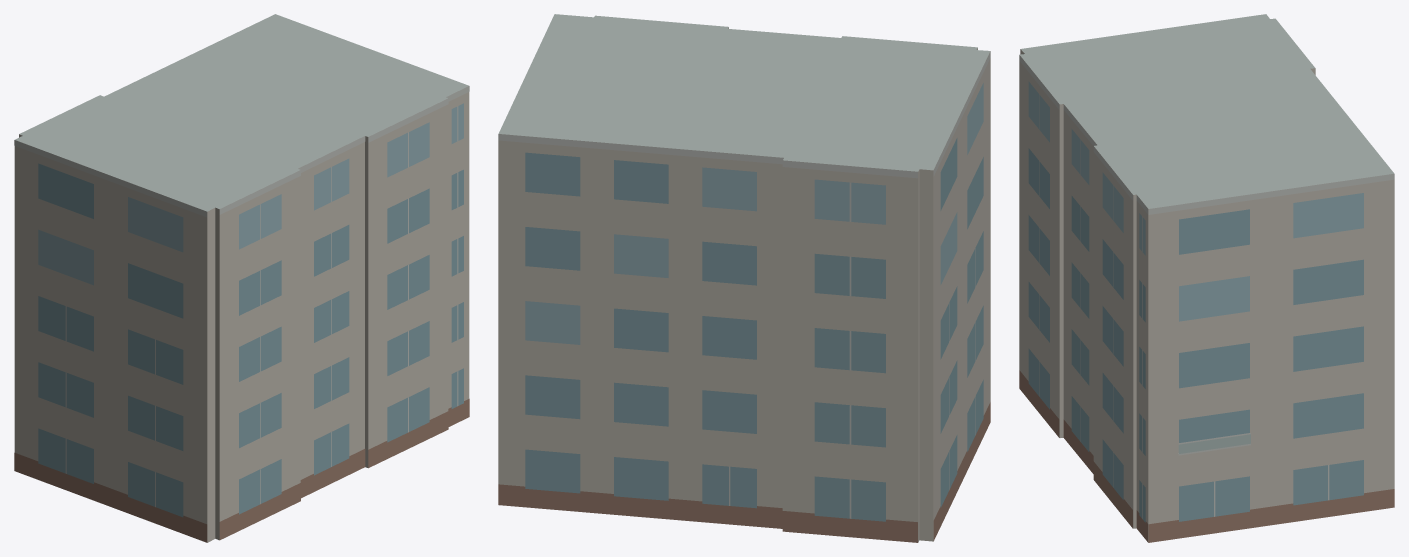
The model's file is survey-upis-32932240.glb.
3 renders of one model, left to right at view 1: azimuth 30°, elevation 25°; view 2: azimuth 150°, elevation 25°; view 3: azimuth 270°, elevation 25°, orthographic. The views are drawn at different scales.
Visible parts, largest first — view 1: survey-upis-32932240.tmp; view 2: survey-upis-32932240.tmp; view 3: survey-upis-32932240.tmp.
Boxes of the visible parts, x1,y1,x2,y2 form: survey-upis-32932240.tmp: [14, 14, 469, 542]; survey-upis-32932240.tmp: [498, 14, 990, 542]; survey-upis-32932240.tmp: [1019, 14, 1394, 542].
Bounding box in the file's own units: 17.18 × 13.7 × 13.96.
